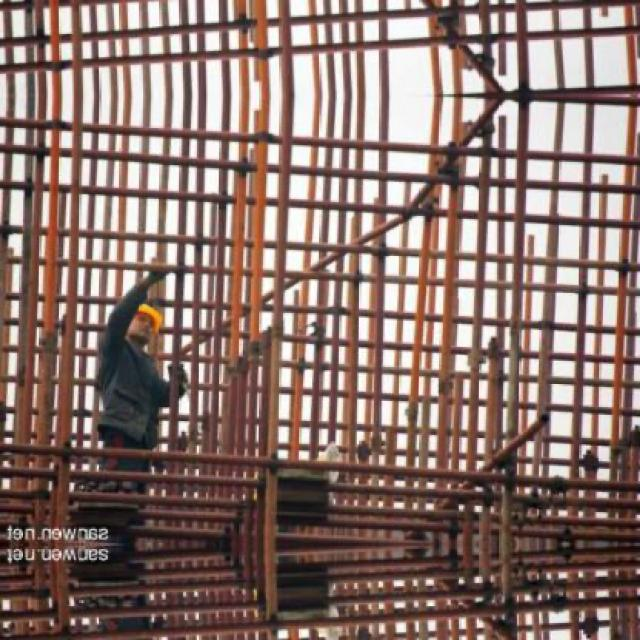con casco: (98, 280, 191, 350)
